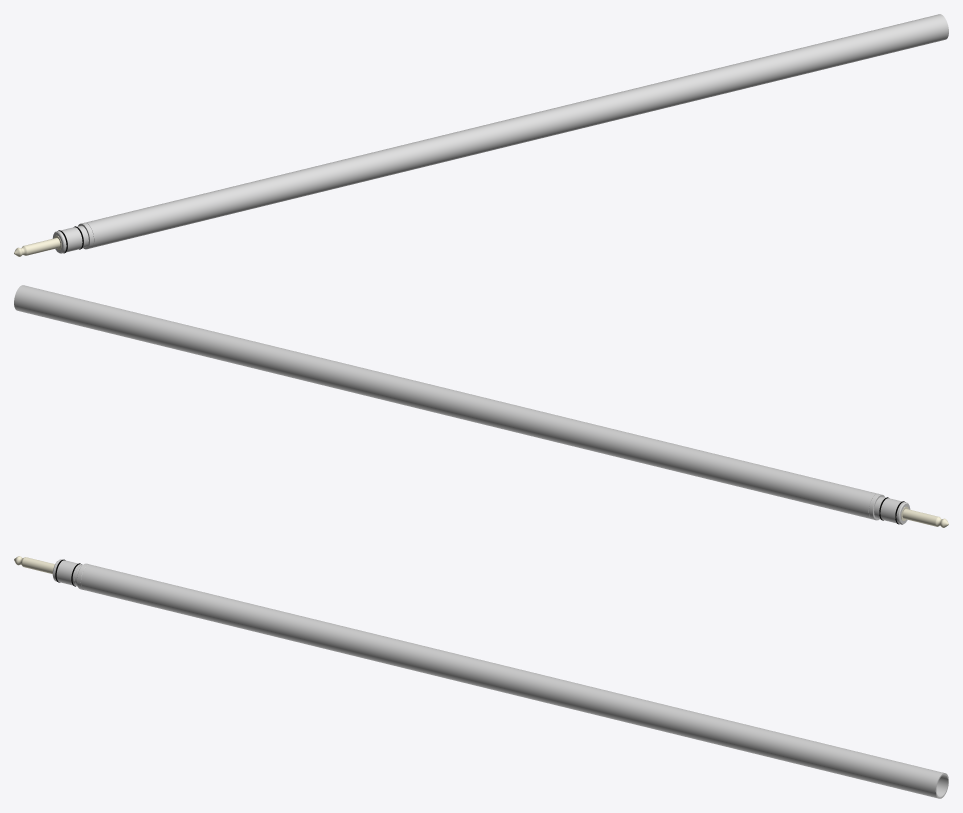
The model's file is InterTube600.glb.
3 renders of one model, top to bottom at view 1: azimuth 30°, elevation 25°; view 2: azimuth 150°, elevation 25°; view 3: azimuth 330°, elevation 25°, orthographic.
Visible parts, largest first — view 1: Body1.009; view 2: Body1.009; view 3: Body1.009.
Boxes of the visible parts, x1,y1,x2,y2 form: Body1.009: (14, 14, 948, 256); Body1.009: (14, 285, 948, 527); Body1.009: (14, 556, 948, 798).
Size of the model in its own units: 6.48 by 0.1599 by 0.1599.
